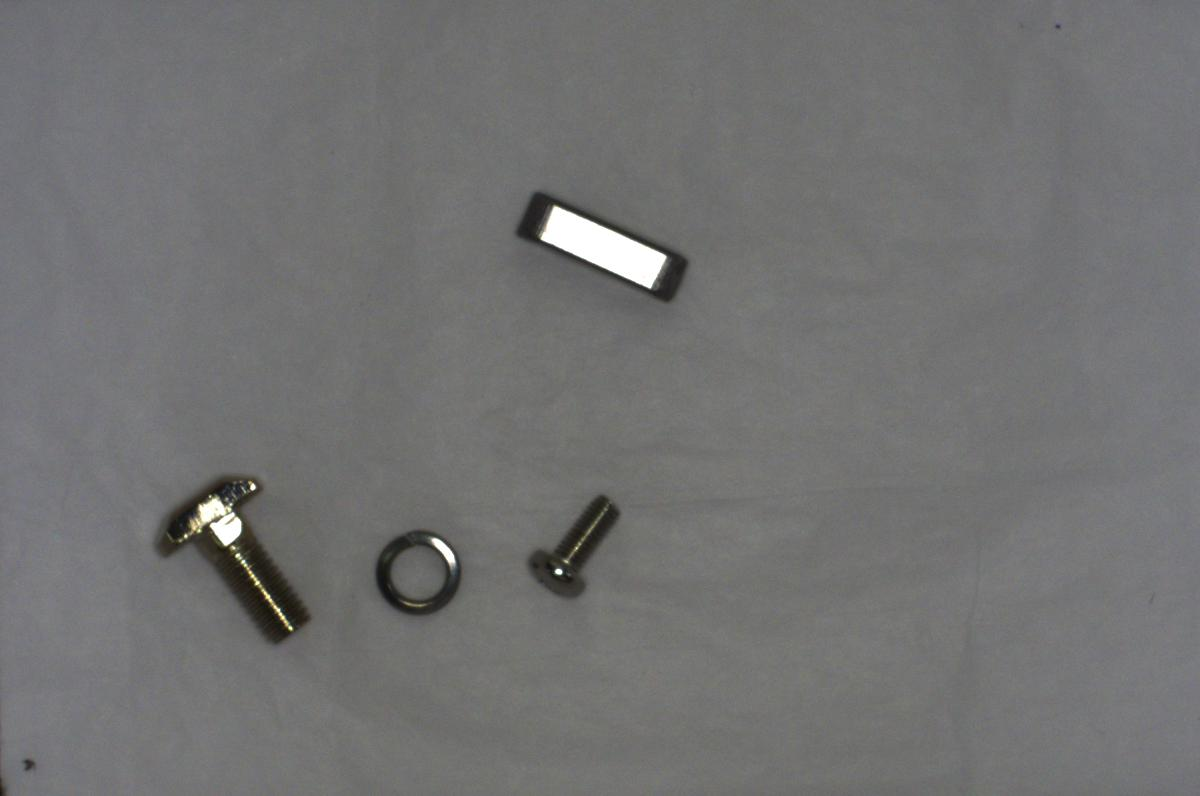Keybar: (506, 187, 698, 306)
Round head screw: (519, 486, 630, 602)
Spring washer: (353, 523, 467, 629)
T-shaped screw: (141, 461, 322, 658)
